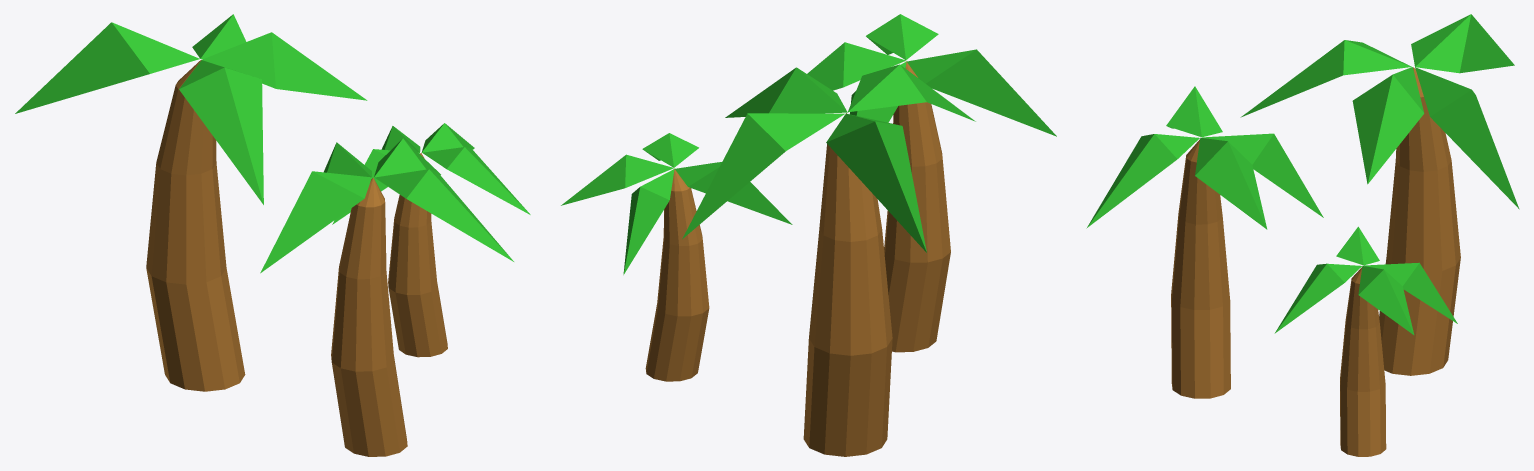
The model's file is oasis.obj.
3 views of the same model, side by side, from view 1: azimuth 30°, elevation 25°; view 2: azimuth 150°, elevation 25°; view 3: azimuth 270°, elevation 25° (orthographic). The views are drawn at different scales.
Parts seen in each view (by area): view 1: cylinder; view 2: cylinder; view 3: cylinder.
Part boxes in pixels (<box>): cylinder: <box>15,14,530,456</box>; cylinder: <box>561,14,1056,456</box>; cylinder: <box>1086,14,1519,456</box>.
Size of the model in its own units: 1.01 by 0.8184 by 1.01.
1 material, 1 textured.
